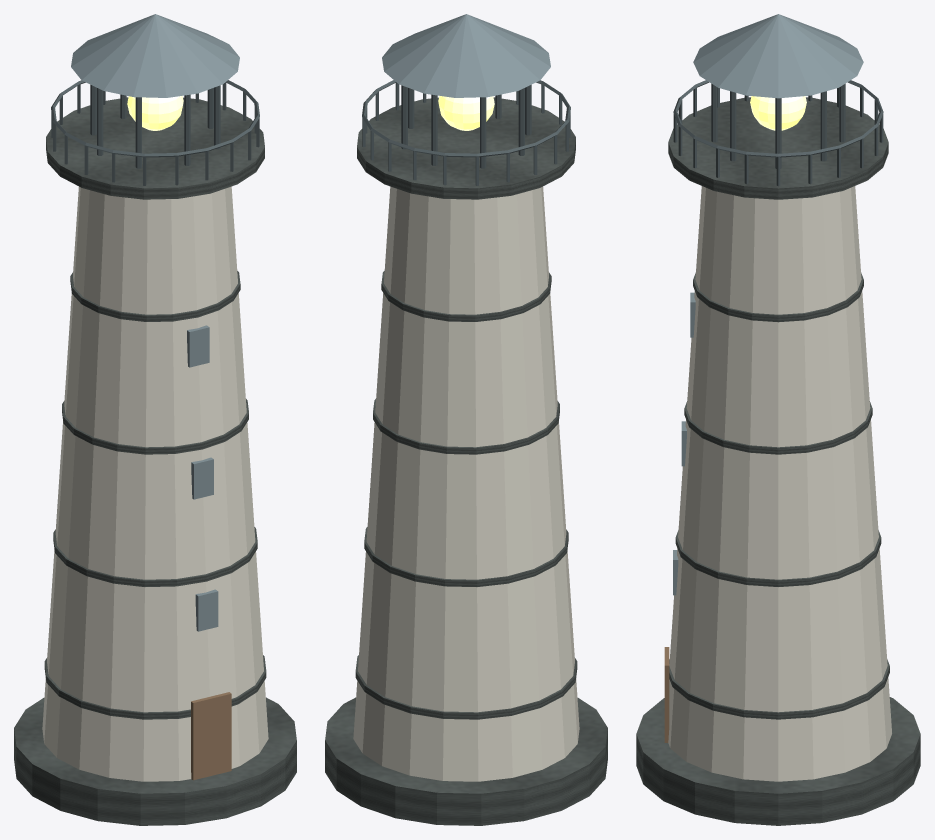
Rendered from lighthouse.glb.
3 renders of one model, left to right at view 1: azimuth 30°, elevation 25°; view 2: azimuth 150°, elevation 25°; view 3: azimuth 270°, elevation 25°, orthographic.
Visible parts, largest first — view 1: Tower, Plinth, Gallery, Roof, Door, StoneCourse.001, StoneCourse.002, StoneCourse, StoneCourse.003, GalleryRail, Lens, Window (+2 smaller); view 2: Tower, Plinth, Gallery, Roof, StoneCourse, StoneCourse.001, StoneCourse.002, StoneCourse.003, GalleryRail, Lens; view 3: Tower, Plinth, Gallery, Roof, StoneCourse, StoneCourse.001, StoneCourse.002, StoneCourse.003, Lens, GalleryRail, Door.
Boxes of the visible parts, bbox=[...] form: Tower: bbox=[42, 186, 268, 781]; Plinth: bbox=[14, 697, 296, 825]; Gallery: bbox=[46, 97, 264, 199]; Roof: bbox=[71, 14, 239, 97]; Door: bbox=[191, 692, 231, 780]; StoneCourse.001: bbox=[53, 527, 257, 586]; StoneCourse.002: bbox=[62, 399, 248, 454]; StoneCourse: bbox=[44, 655, 266, 719]; StoneCourse.003: bbox=[70, 271, 240, 321]; GalleryRail: bbox=[51, 80, 259, 157]; Lens: bbox=[127, 96, 183, 130]; Window: bbox=[195, 589, 218, 631]; Tower: bbox=[353, 186, 579, 781]; Plinth: bbox=[325, 697, 607, 825]; Gallery: bbox=[357, 97, 575, 199]; Roof: bbox=[382, 14, 550, 97]; StoneCourse: bbox=[355, 655, 577, 719]; StoneCourse.001: bbox=[364, 527, 568, 586]; StoneCourse.002: bbox=[373, 399, 559, 454]; StoneCourse.003: bbox=[381, 271, 551, 321]; GalleryRail: bbox=[362, 80, 570, 157]; Lens: bbox=[438, 96, 494, 130]; Tower: bbox=[668, 186, 891, 781]; Plinth: bbox=[636, 697, 920, 825]; Gallery: bbox=[668, 97, 888, 199]; Roof: bbox=[693, 14, 863, 98]; StoneCourse: bbox=[669, 659, 889, 719]; StoneCourse.001: bbox=[675, 530, 881, 586]; StoneCourse.002: bbox=[684, 401, 872, 454]; StoneCourse.003: bbox=[693, 272, 863, 322]; Lens: bbox=[750, 96, 806, 130]; GalleryRail: bbox=[673, 80, 883, 157]; Door: bbox=[664, 647, 669, 742].
Bounding box in the file's own units: 8 × 23.35 × 8.
6 materials, 1 textured.
